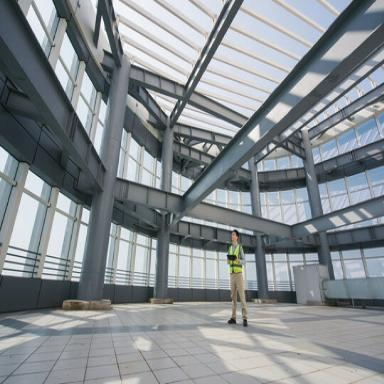glass_panel: (41, 196, 73, 280), (50, 25, 79, 96), (228, 232, 248, 324), (71, 204, 89, 282), (282, 187, 310, 224), (116, 229, 134, 285), (90, 92, 106, 154), (320, 178, 348, 213), (134, 235, 151, 287), (347, 171, 372, 206), (105, 223, 118, 285), (270, 253, 290, 292), (340, 250, 364, 280), (207, 188, 240, 209), (364, 246, 384, 278), (216, 252, 231, 288), (180, 242, 191, 289), (193, 251, 204, 289), (260, 191, 274, 219), (328, 250, 341, 280)
